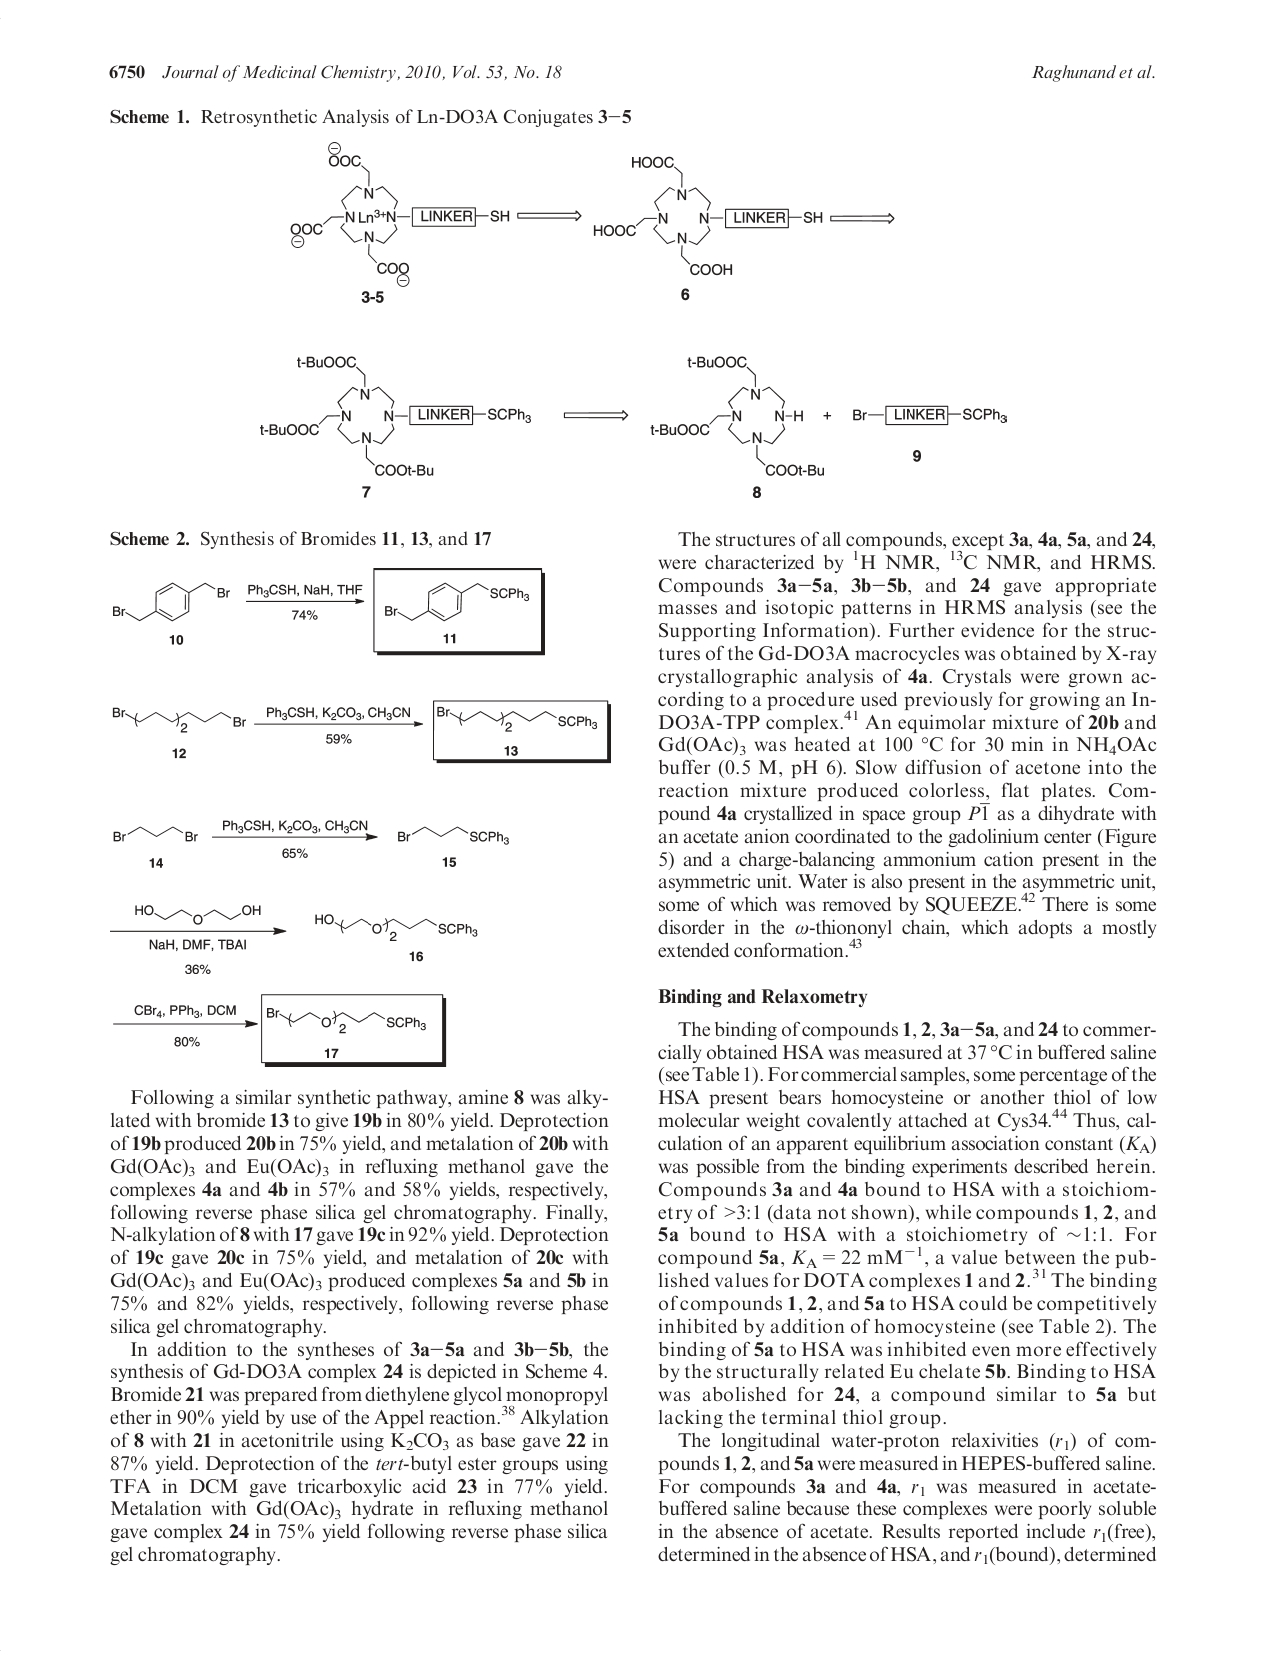exist_molecular: (258, 354, 535, 477), (290, 141, 512, 287), (590, 156, 823, 277), (650, 354, 827, 484), (382, 580, 531, 622), (110, 580, 235, 622), (313, 912, 479, 942), (265, 1005, 428, 1035), (435, 705, 598, 731), (848, 402, 1008, 427), (110, 704, 247, 733), (133, 902, 263, 926), (396, 825, 511, 846), (219, 817, 368, 833), (112, 825, 198, 844)
